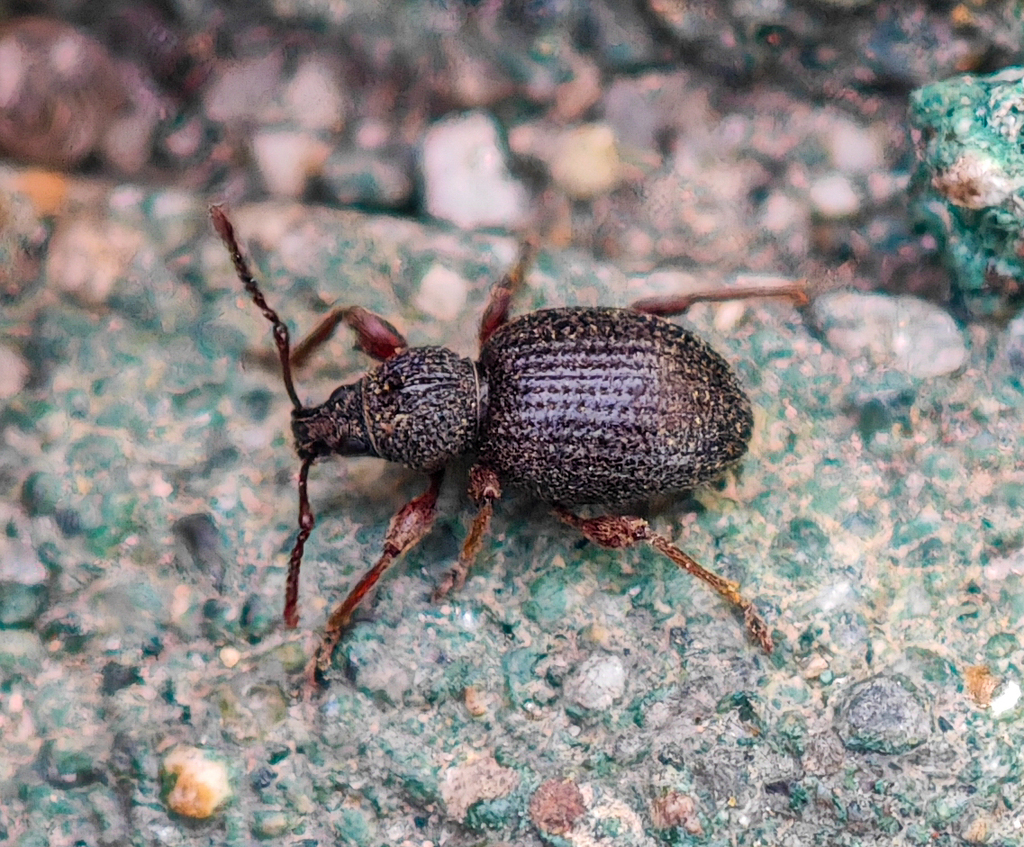weevils: (102, 127, 857, 772)
